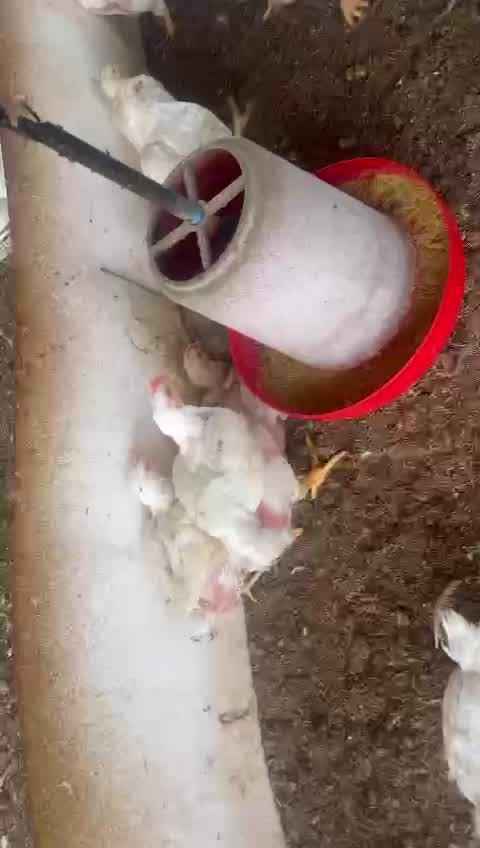Normal: (144, 372, 335, 547)
